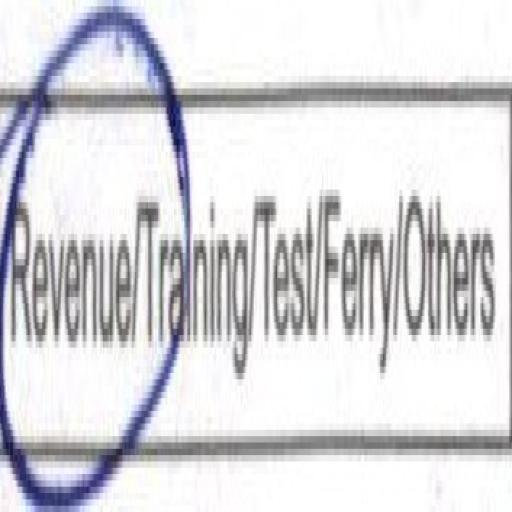check: (0, 24, 140, 496)
